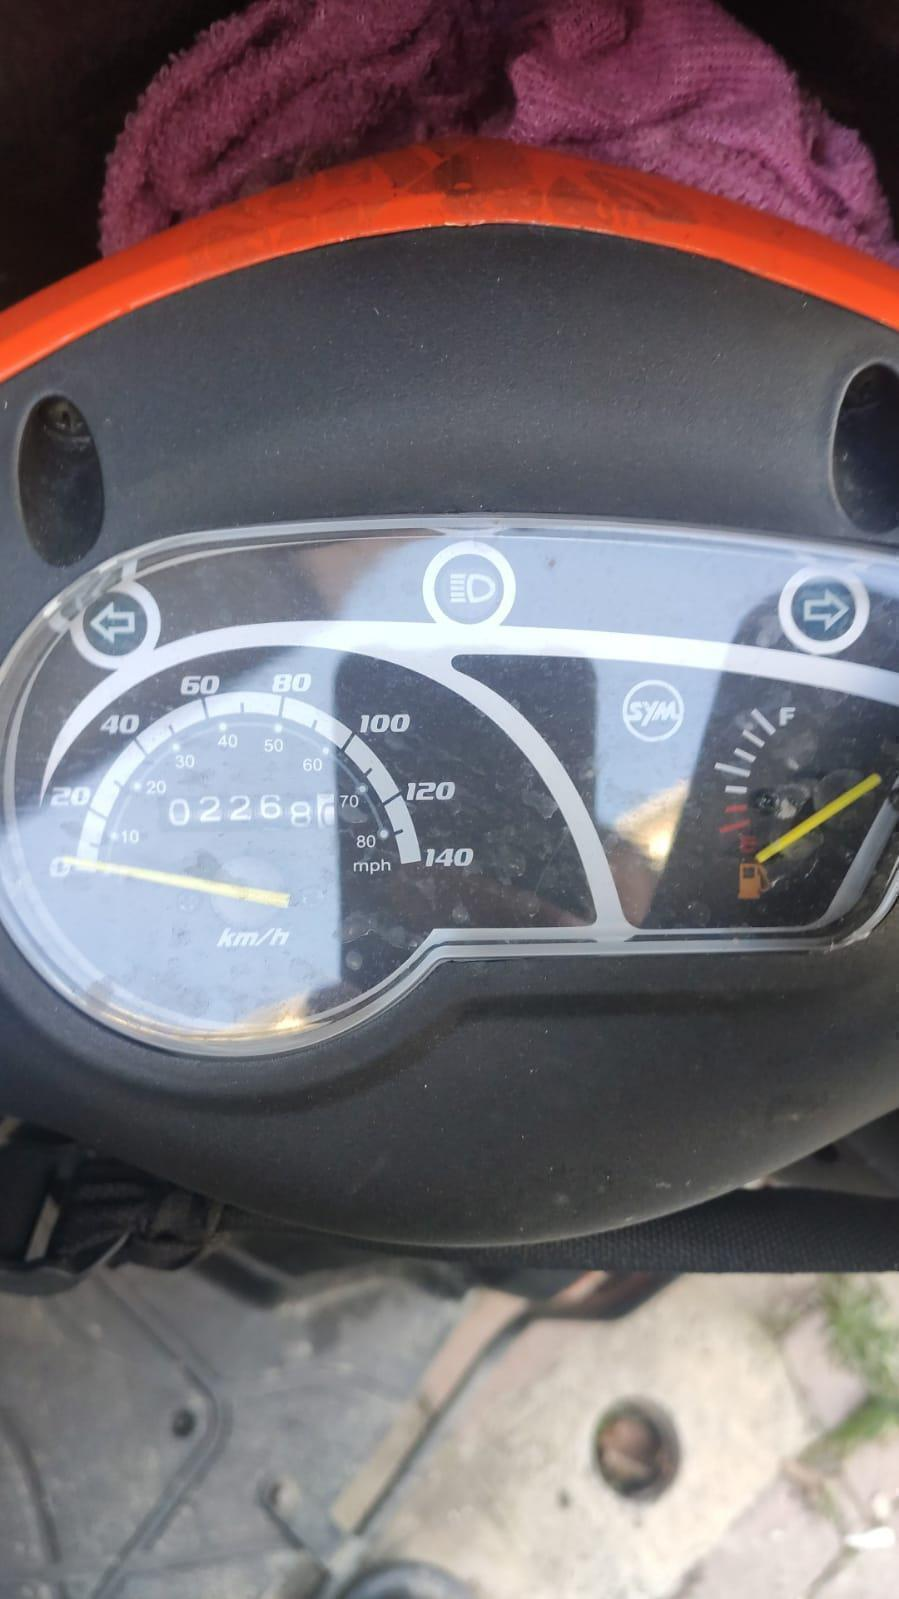0: (166, 795, 191, 828), (318, 800, 338, 830)
2: (226, 791, 254, 824), (198, 793, 222, 826)
6: (258, 791, 283, 821)
8: (289, 800, 314, 831)
odometer: (156, 790, 342, 839)
